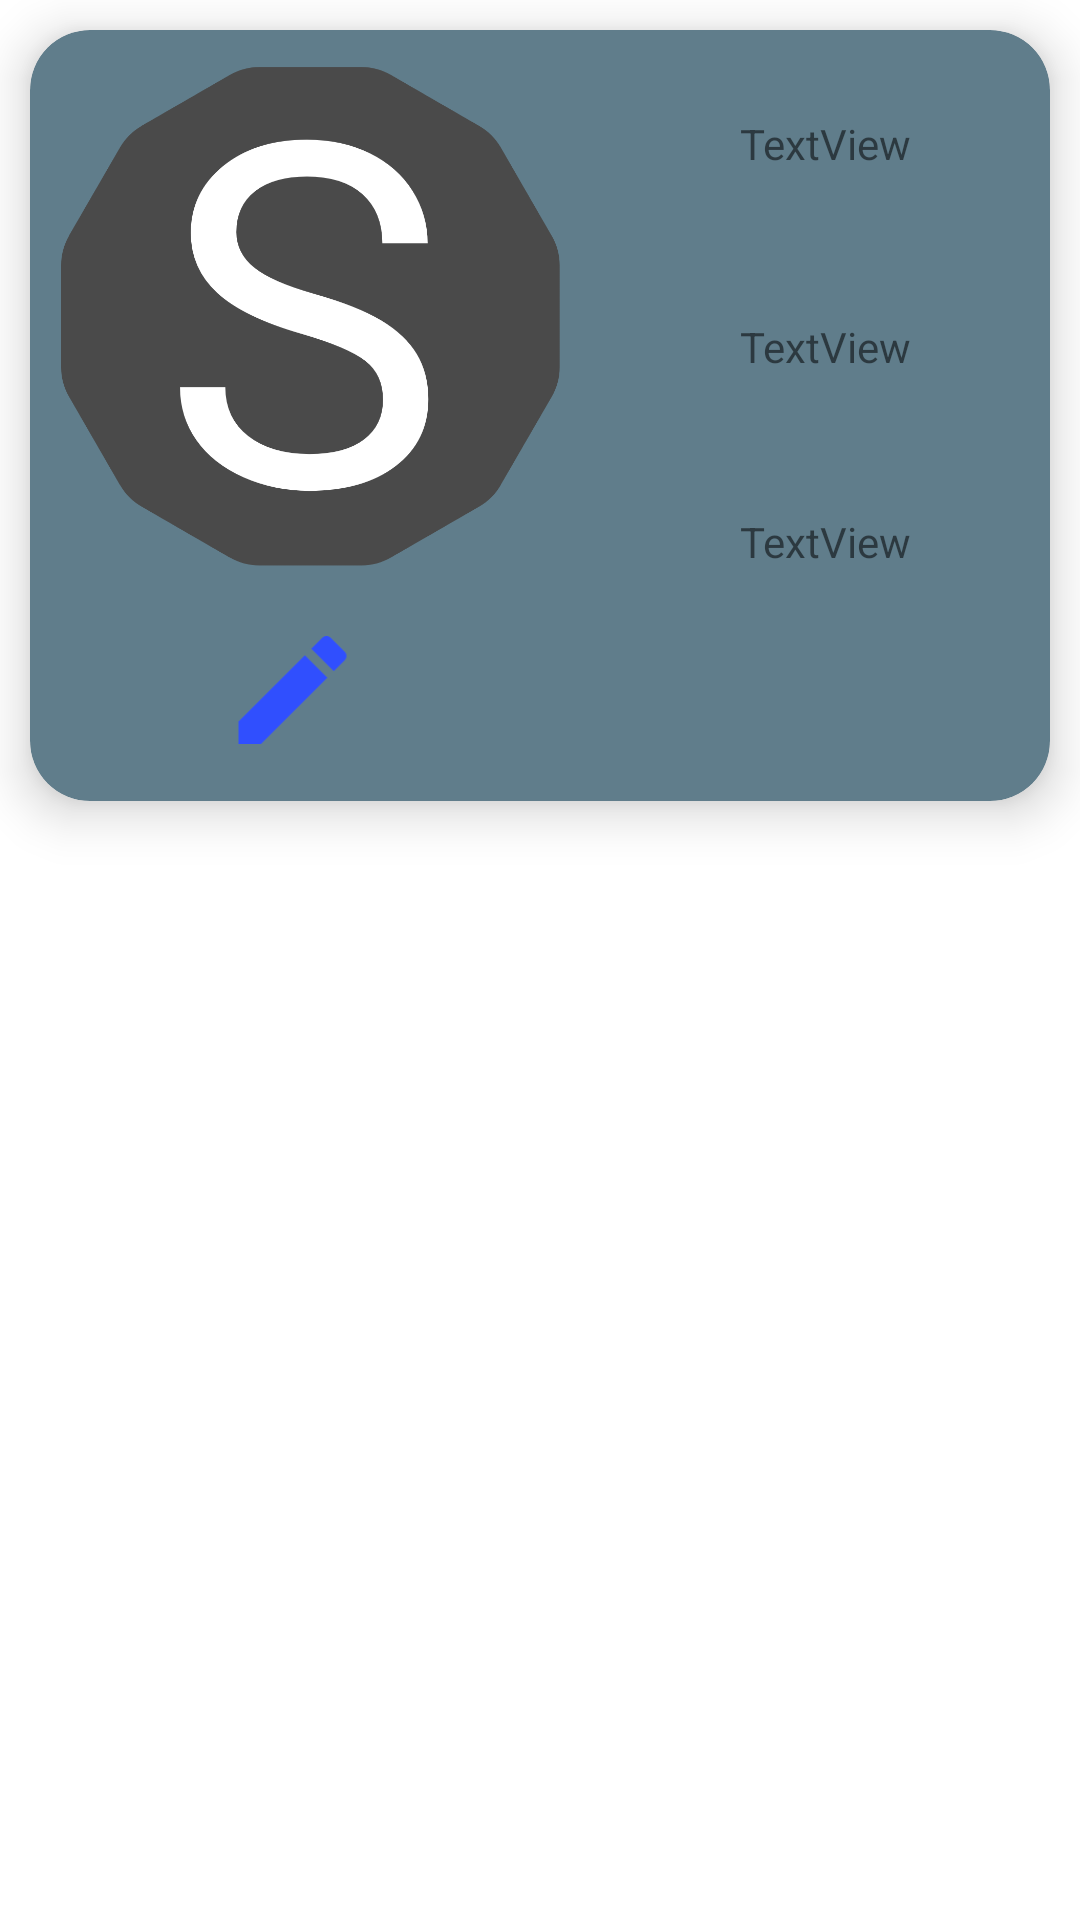

Screen size 1080px x 1920px. Icon name, then its center in pixels as point (x, y):
edit: point (292, 690)
